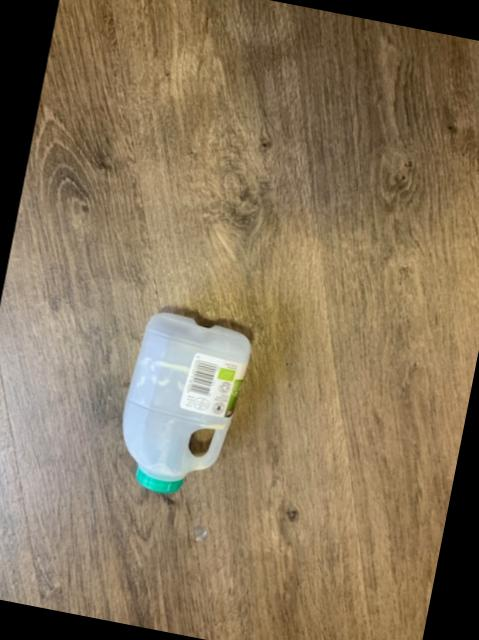plastic: (122, 314, 250, 494)
